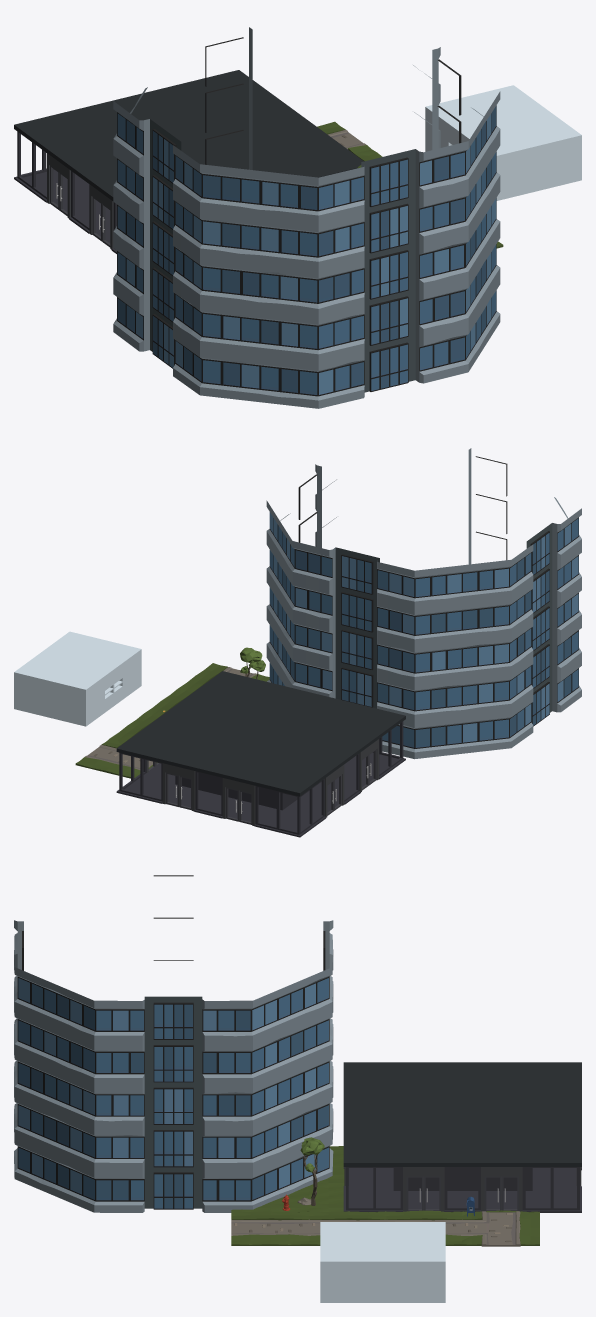
File: WorkplaceSceneObject.glb
3 views of the same model, one above another, from view 1: azimuth 30°, elevation 25°; view 2: azimuth 150°, elevation 25°; view 3: azimuth 270°, elevation 25° (orthographic). The views are drawn at different scales.
Parts seen in each view (by area): view 1: SM_Bld_Cover_02, room (2); view 2: SM_Bld_Cover_02, room (2); view 3: SM_Bld_Cover_02, room (2).
Boxes of the visible parts, x1,y1,x2,y2 form: SM_Bld_Cover_02: (14, 27, 503, 408); room (2): (425, 85, 581, 200); SM_Bld_Cover_02: (75, 448, 581, 837); room (2): (14, 631, 141, 726); SM_Bld_Cover_02: (14, 875, 581, 1246); room (2): (320, 1222, 445, 1302).
Size of the model in its own units: 34.33 by 15 by 36.41.
4 materials, 2 textured.
